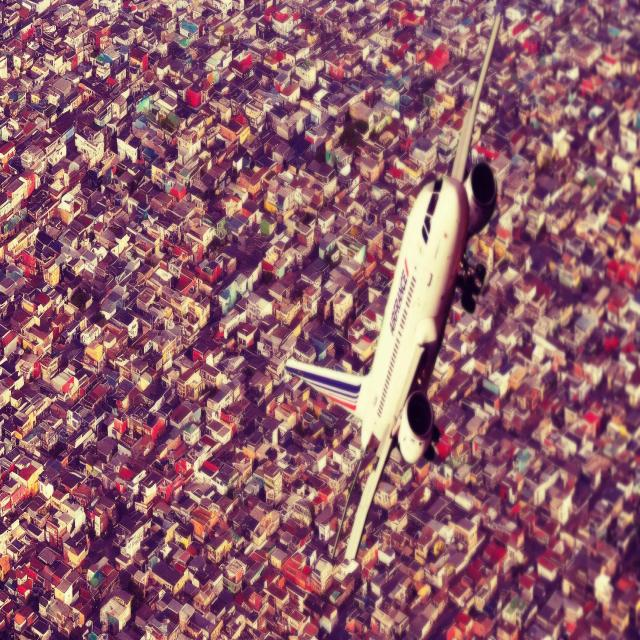airplane: (284, 12, 502, 566)
